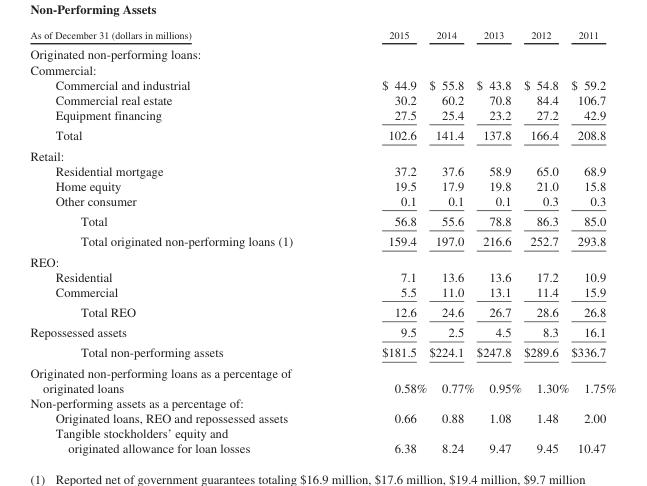table: (29, 29, 615, 455)
table column: (29, 29, 336, 455), (336, 29, 427, 455), (474, 29, 522, 455), (427, 29, 474, 455), (522, 29, 569, 455), (569, 29, 615, 455)
table column header: (29, 29, 615, 43)
table projected row header: (29, 43, 615, 61), (29, 145, 615, 162), (29, 251, 615, 268), (29, 61, 615, 76), (29, 395, 615, 410)
table row: (29, 362, 615, 395), (29, 425, 615, 455), (29, 124, 615, 145), (29, 230, 615, 251), (29, 321, 615, 342), (29, 210, 615, 230), (29, 301, 615, 321), (29, 342, 615, 362), (29, 43, 615, 61), (29, 283, 615, 301), (29, 107, 615, 124), (29, 145, 615, 162), (29, 193, 615, 210), (29, 251, 615, 268), (29, 76, 615, 92), (29, 177, 615, 193), (29, 61, 615, 76), (29, 92, 615, 107), (29, 162, 615, 177), (29, 268, 615, 283), (29, 395, 615, 410), (29, 410, 615, 425), (29, 29, 615, 43)
